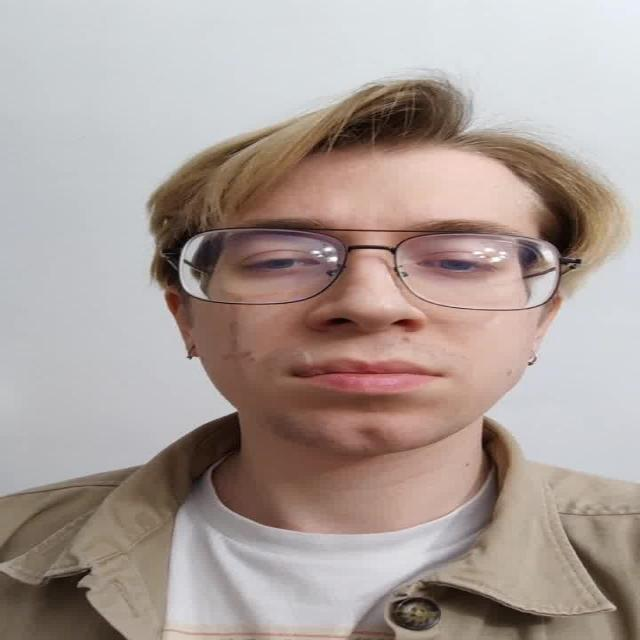earlobe: (163, 288, 202, 358), (528, 289, 563, 366)
